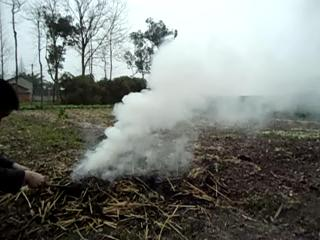yanwu: (83, 41, 285, 174)
